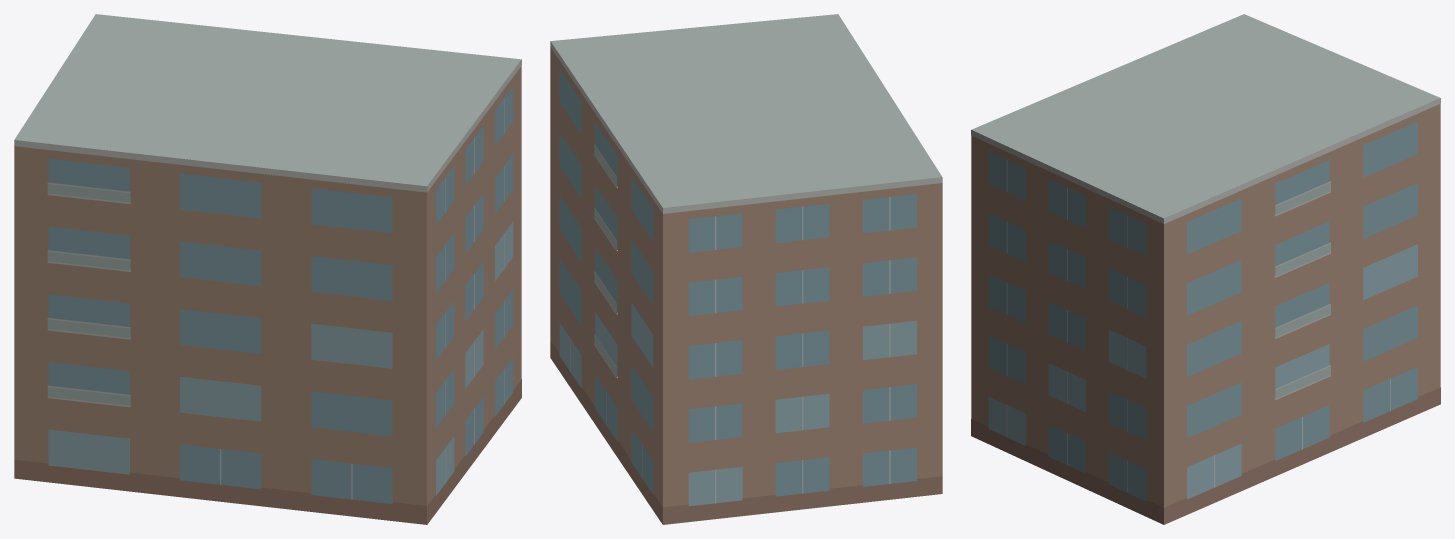
The model's file is survey-upis-32952628.glb.
The picture shows the model from 3 angles, left to right: view 1: azimuth 30°, elevation 25°; view 2: azimuth 150°, elevation 25°; view 3: azimuth 270°, elevation 25°; orthographic projection. The views are drawn at different scales.
Visible parts, largest first — view 1: survey-upis-32952628.tmp; view 2: survey-upis-32952628.tmp; view 3: survey-upis-32952628.tmp.
Part boxes in pixels (bbox=[...]): survey-upis-32952628.tmp: bbox=[14, 14, 521, 524]; survey-upis-32952628.tmp: bbox=[550, 14, 942, 524]; survey-upis-32952628.tmp: bbox=[971, 14, 1440, 524].
Bounding box in the file's own units: 18.98 × 13.25 × 18.41.
